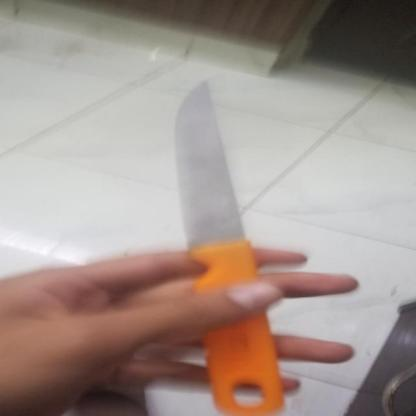Knife: (166, 82, 302, 416)
